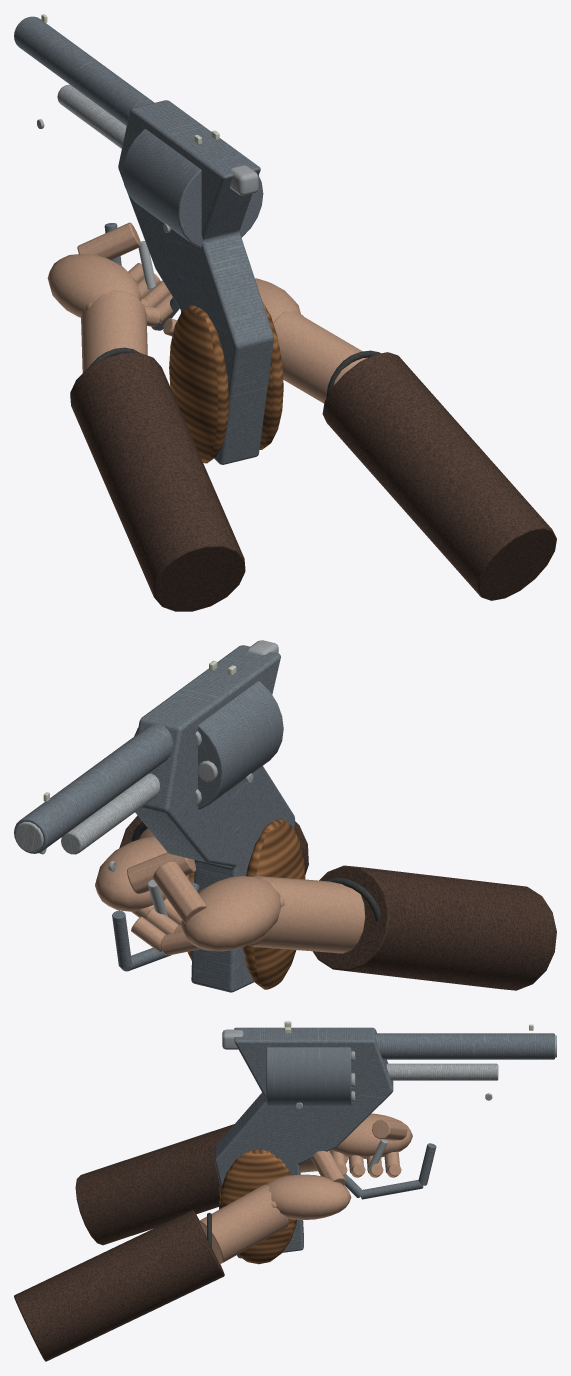
3 views of the same model, one above another, from view 1: azimuth 30°, elevation 25°; view 2: azimuth 150°, elevation 25°; view 3: azimuth 270°, elevation 25° (orthographic). The views are drawn at different scales.
Visible parts, largest first — view 1: model10__BODY, model10__HAND_L, model10__HAND_R, model10__CYLINDER, model10__HAMMER; view 2: model10__HAND_L, model10__BODY, model10__CYLINDER, model10__HAND_R; view 3: model10__BODY, model10__HAND_R, model10__HAND_L, model10__CYLINDER.
Boxes of the visible parts, bbox=[...] form: model10__BODY: bbox=[14, 14, 283, 464]; model10__HAND_L: bbox=[47, 222, 245, 611]; model10__HAND_R: bbox=[163, 278, 556, 600]; model10__CYLINDER: bbox=[122, 129, 263, 247]; model10__HAMMER: bbox=[229, 165, 258, 195]; model10__HAND_L: bbox=[131, 861, 556, 990]; model10__BODY: bbox=[14, 645, 305, 992]; model10__CYLINDER: bbox=[134, 681, 283, 809]; model10__HAND_R: bbox=[95, 815, 308, 918]; model10__BODY: bbox=[214, 1021, 556, 1264]; model10__HAND_R: bbox=[14, 1150, 351, 1361]; model10__HAND_L: bbox=[75, 1113, 412, 1245]; model10__CYLINDER: bbox=[266, 1047, 355, 1106].
Size of the model in its own units: 0.3294 by 0.3301 by 0.5733.
7 materials, 7 textured.
